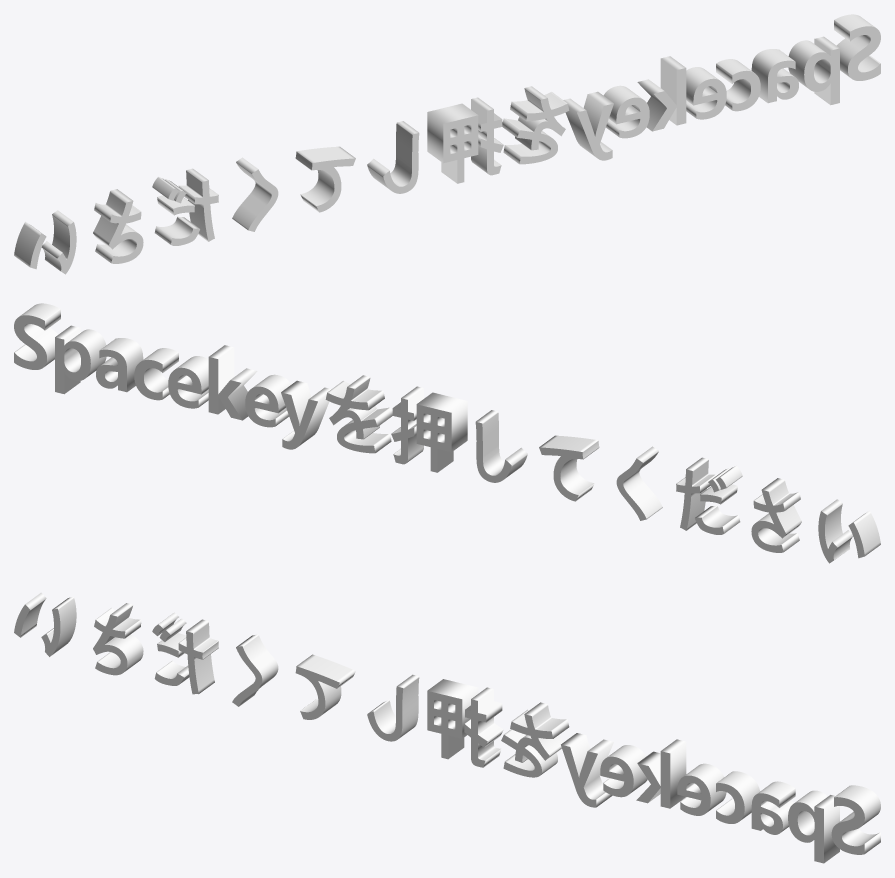
File: spaceKeyFont.obj
3 views of the same model, one above another, from view 1: azimuth 30°, elevation 25°; view 2: azimuth 150°, elevation 25°; view 3: azimuth 330°, elevation 25° (orthographic).
Parts seen in each view (by area): view 1: テキスト.001_テキスト; view 2: テキスト.001_テキスト; view 3: テキスト.001_テキスト.
Boxes of the visible parts, <box> form: テキスト.001_テキスト: <box>14,14,880,274</box>; テキスト.001_テキスト: <box>14,303,880,563</box>; テキスト.001_テキスト: <box>14,592,880,863</box>.
Size of the model in its own units: 30.48 by 2.69 by 1.
1 material, 1 textured.
